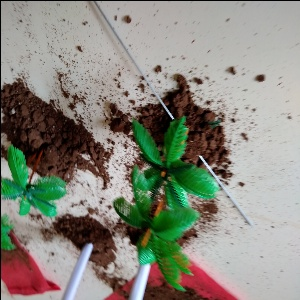plant: (112, 118, 214, 283), (3, 139, 72, 226)
